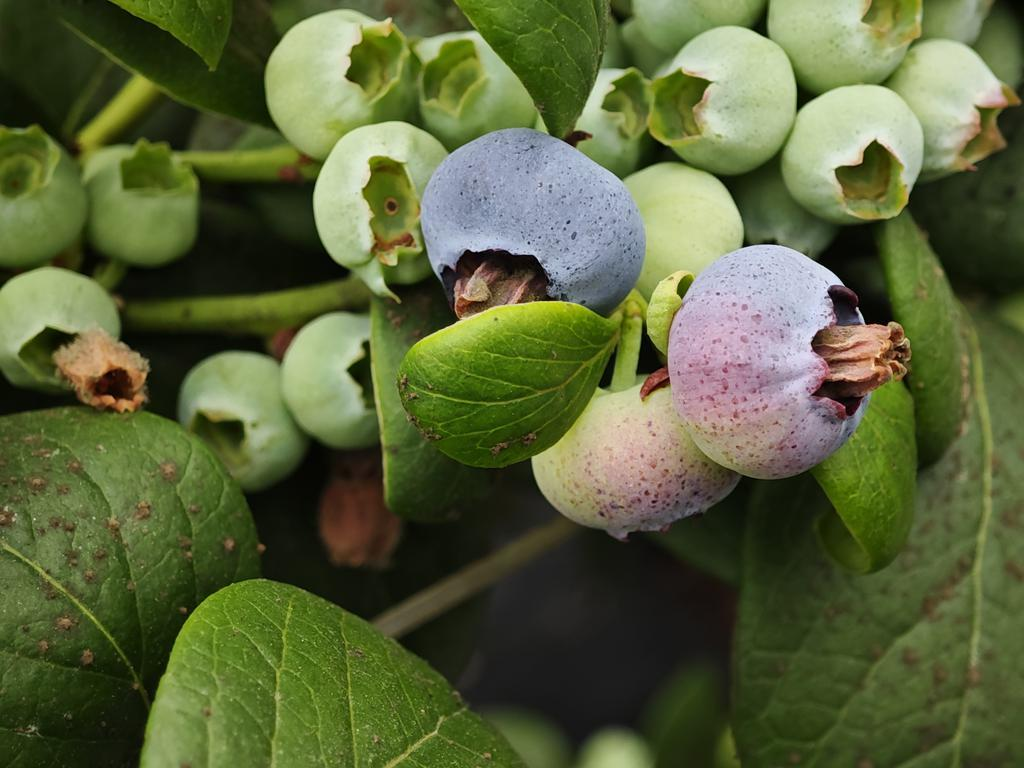RipeBlueBerry: (424, 127, 643, 319)
Semi-RipeBlueBerry: (677, 246, 872, 479)
UnripeBlueBerry: (264, 6, 424, 149), (651, 24, 794, 173), (790, 83, 922, 223)
